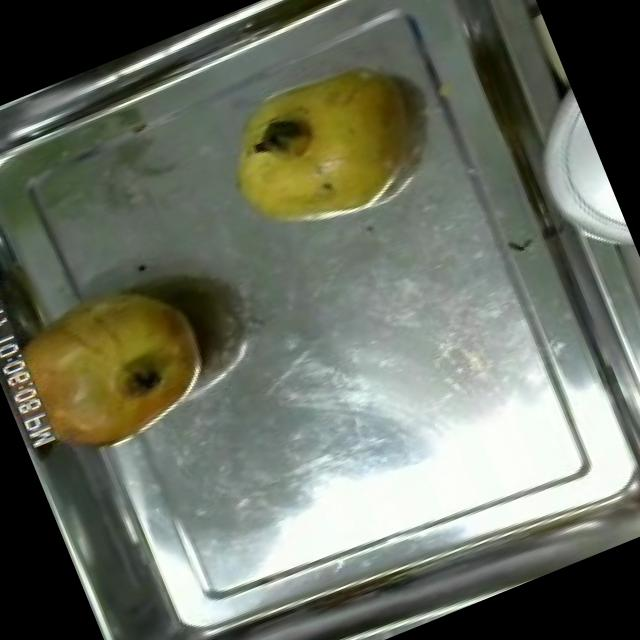fruit: (194, 32, 456, 262), (0, 251, 236, 480)
